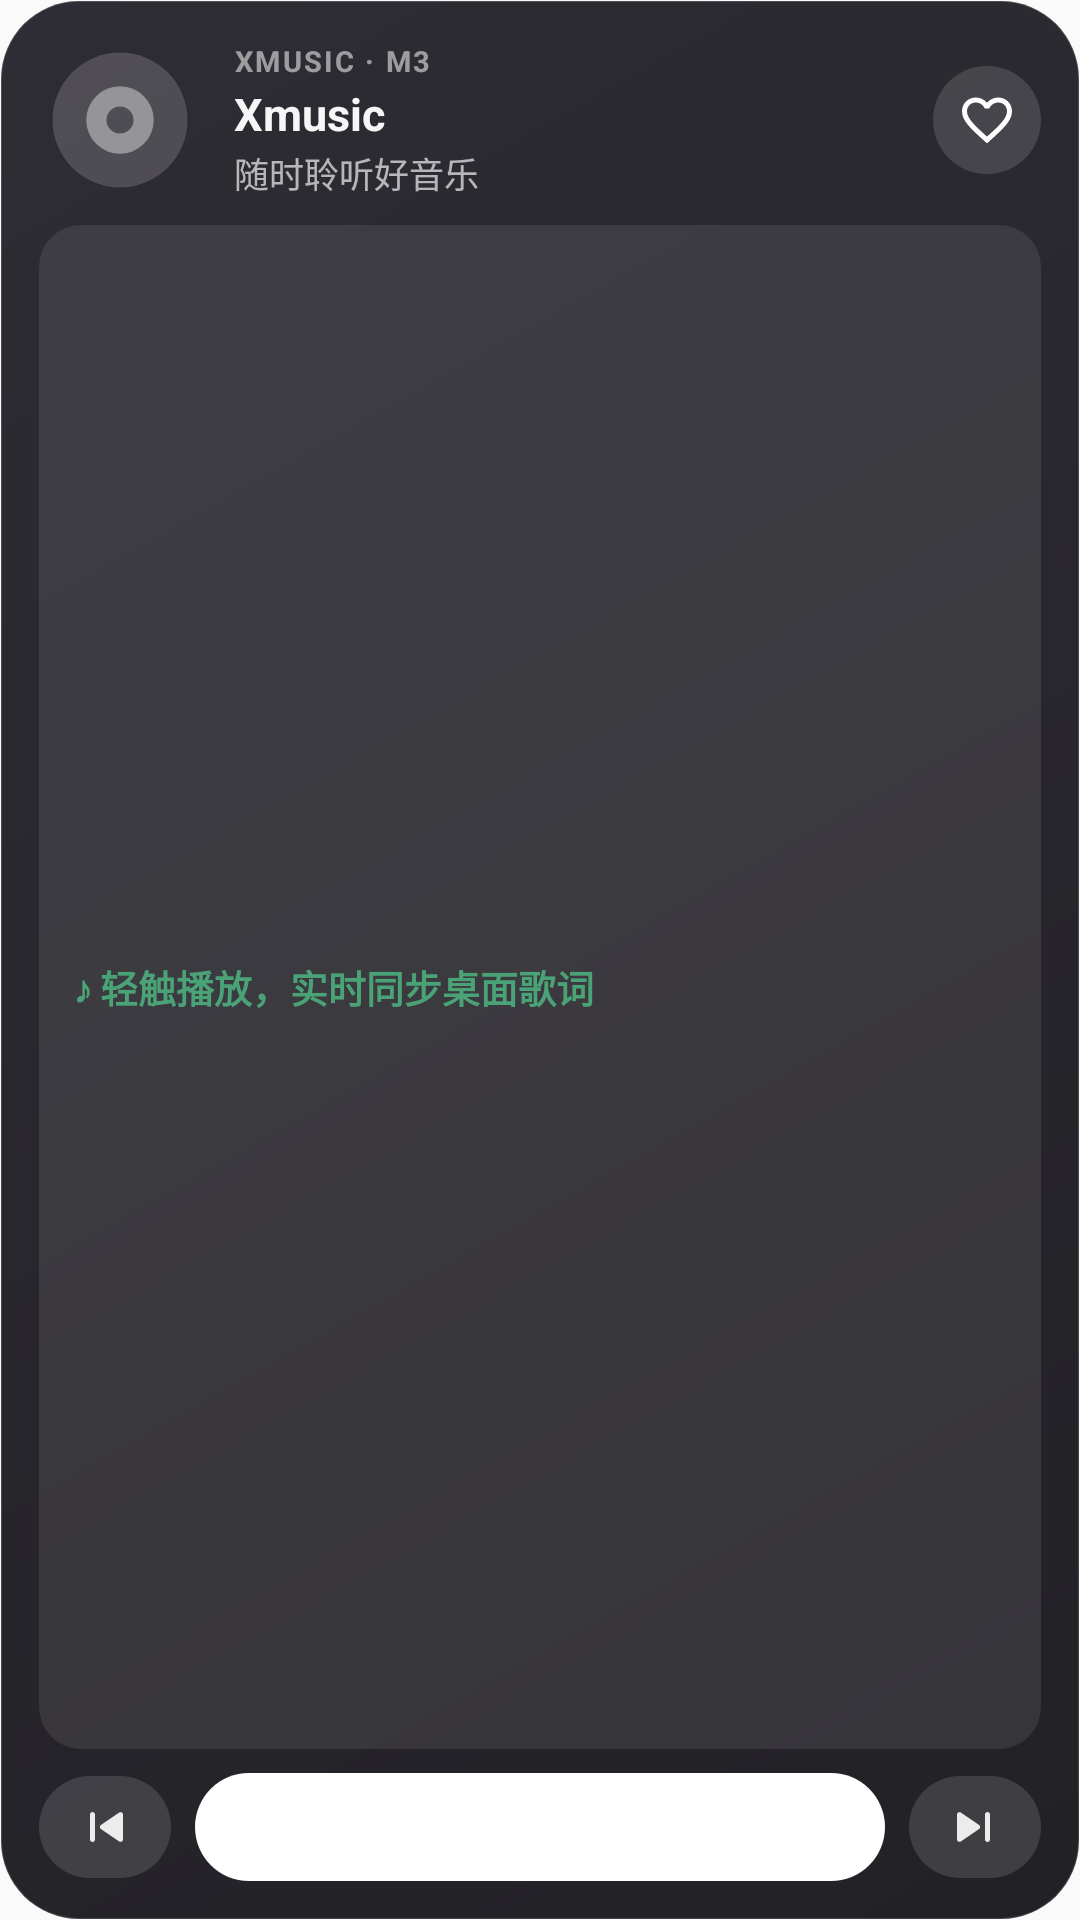

Named icons in this screenshot (1080w x 1920h) and their bounding boxes, (x1,y1,x2,y2):
Favorite: (933,66,1041,174)
Next: (909,1776,1041,1878)
Previous: (39,1776,171,1878)
widget disc: (53,53,187,187)
